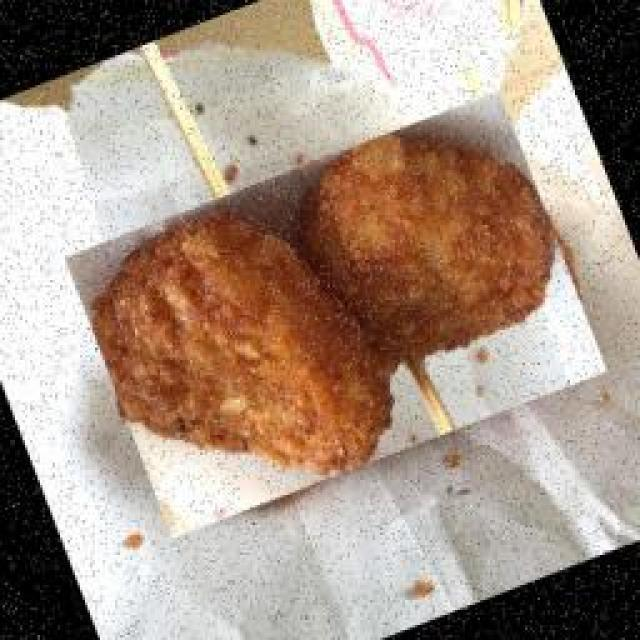triangle_hash_brown: (63, 90, 608, 538)
